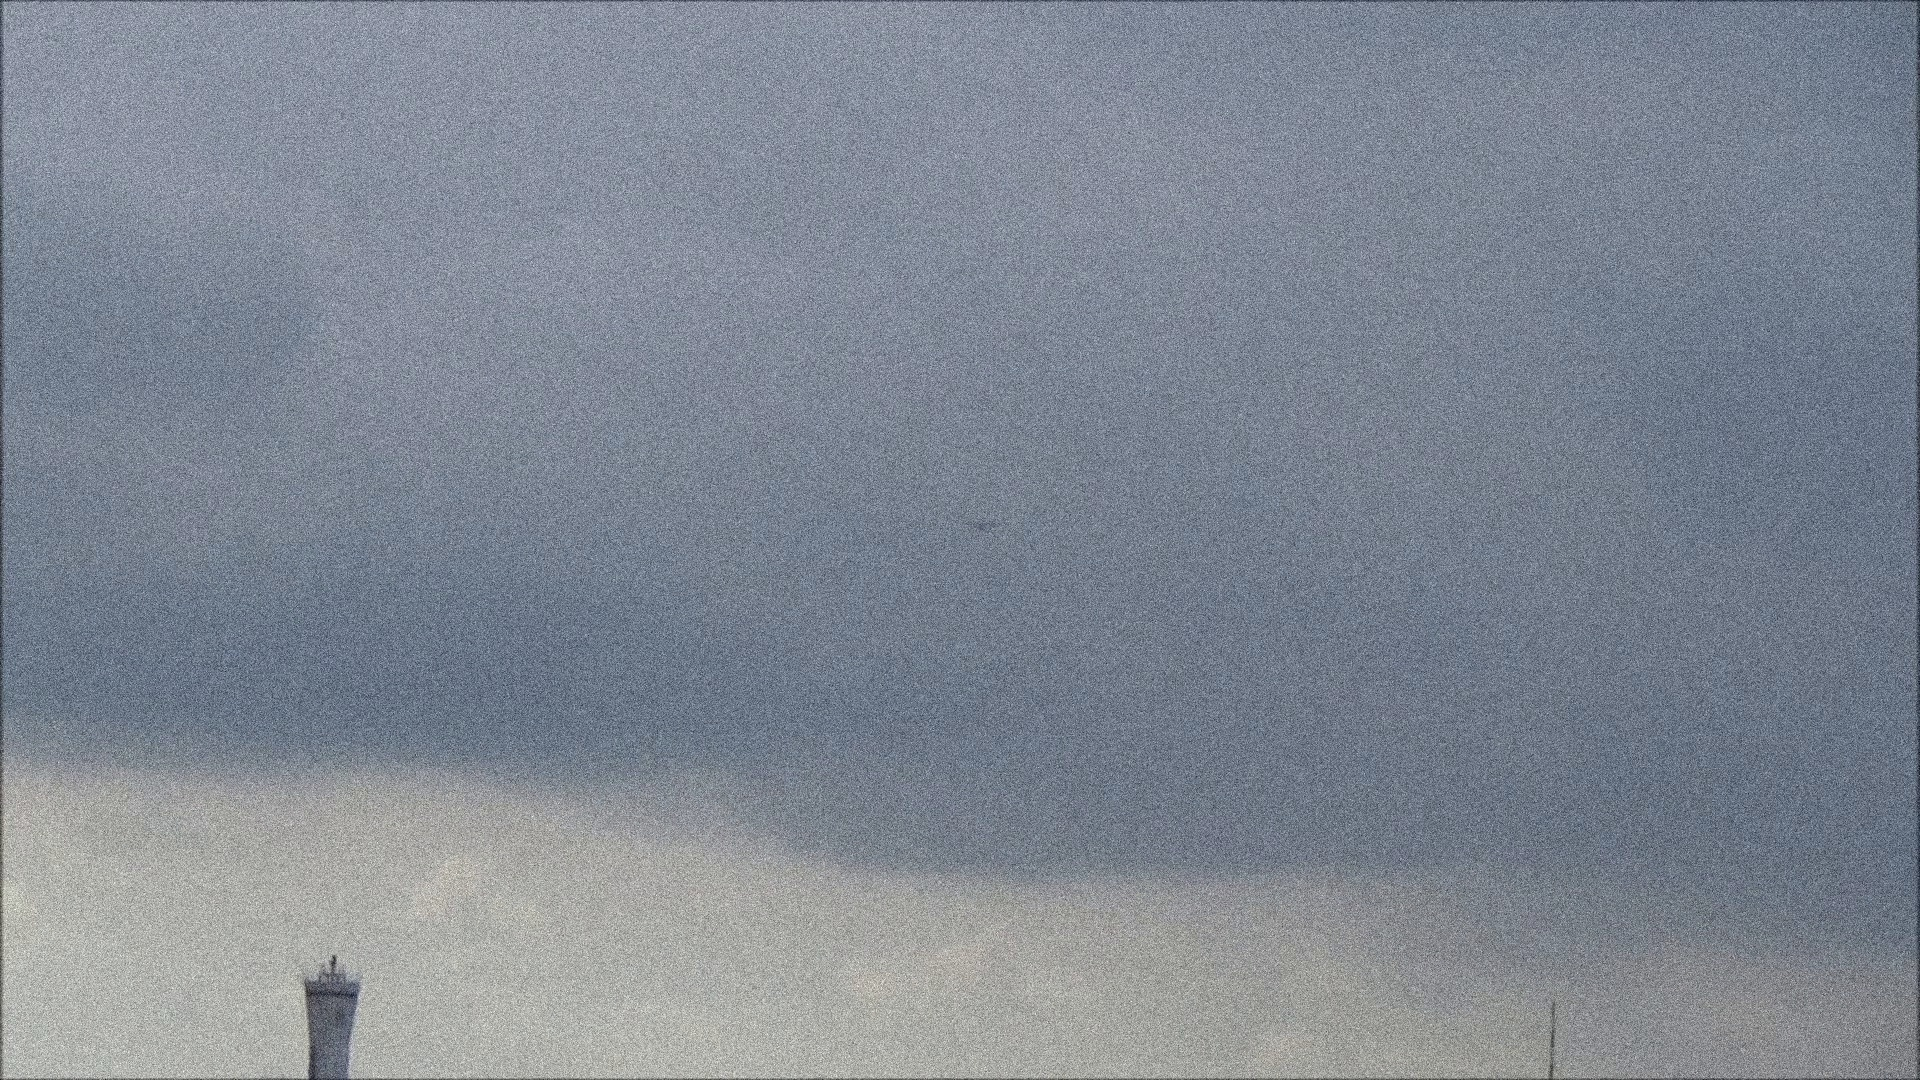Airplane: (969, 510, 1000, 535)
